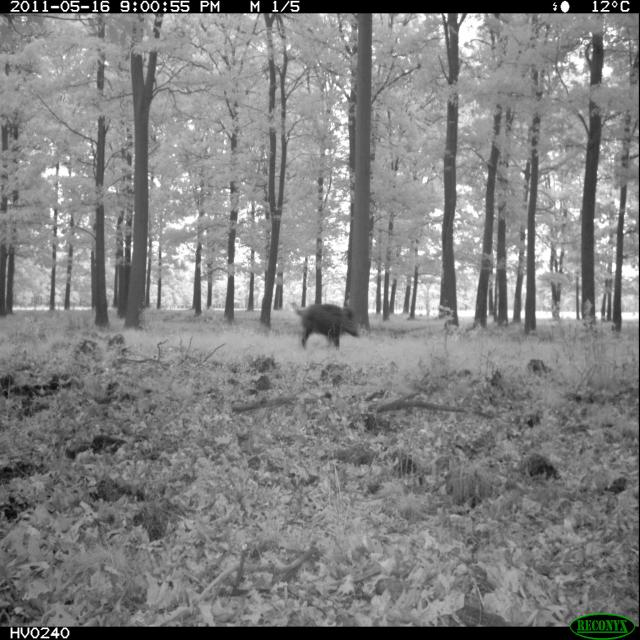boar: (291, 290, 361, 365), (516, 424, 571, 499)
